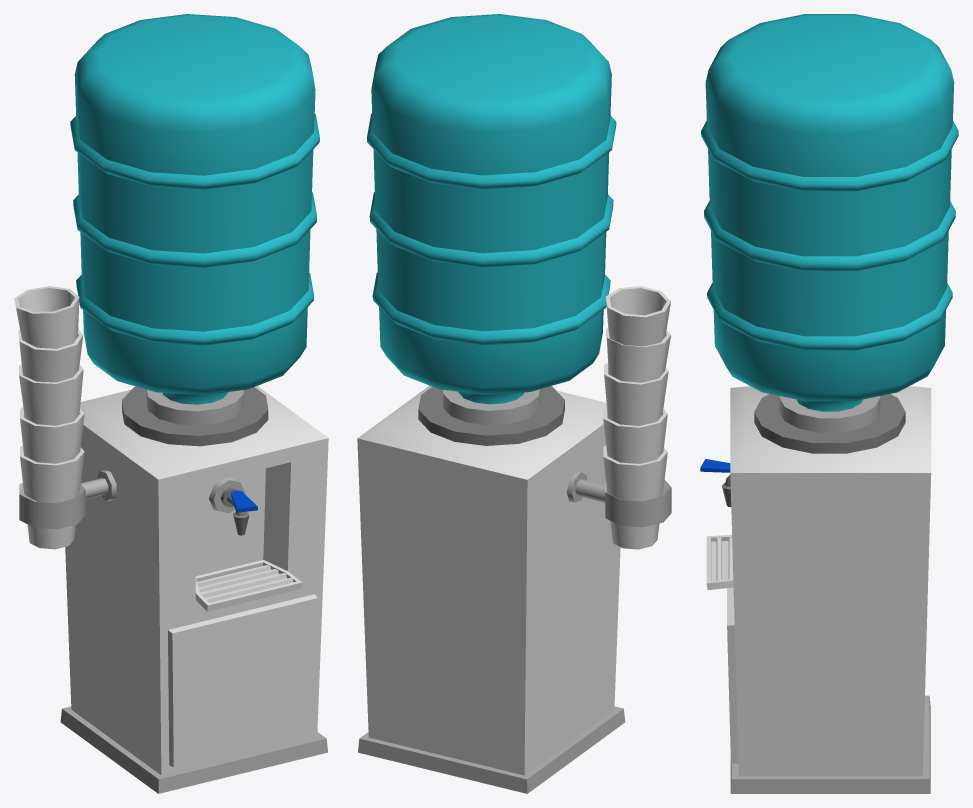
File: Dispensador_Agua.fbx
3 renders of one model, left to right at view 1: azimuth 30°, elevation 25°; view 2: azimuth 150°, elevation 25°; view 3: azimuth 270°, elevation 25°, orthographic. The views are drawn at different scales.
Visible parts, largest first — view 1: Dispensador_Agua; view 2: Dispensador_Agua; view 3: Dispensador_Agua.
Boxes of the visible parts, x1,y1,x2,y2 form: Dispensador_Agua: [14, 14, 328, 793]; Dispensador_Agua: [357, 14, 671, 793]; Dispensador_Agua: [700, 14, 958, 793].
Bounding box in the file's own units: 84.3 × 194 × 65.38.
